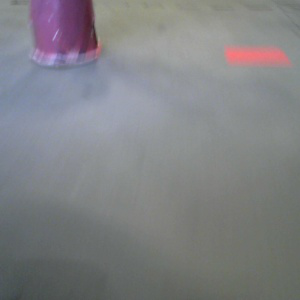middle: (29, 1, 100, 64)
